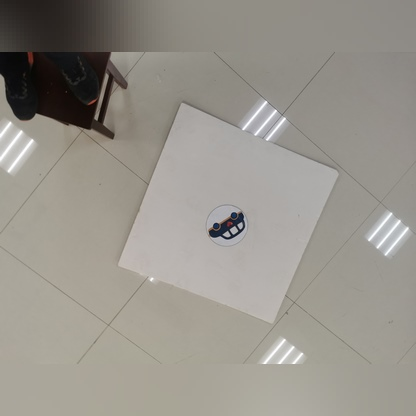car: (197, 199, 242, 243)
